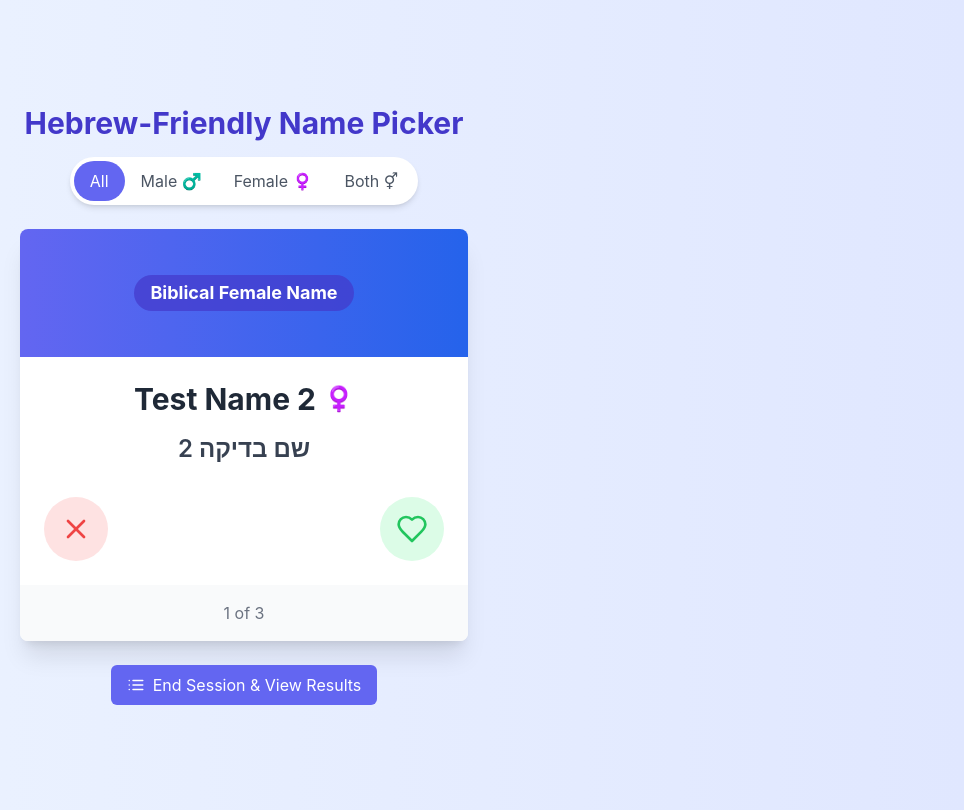
HebrewNamesTinder › moves to next name when like button is clicked
The image size is (964, 810).
# Click the like button
Step 1. Click the button named "Like" → point(412, 529), box top-left (380, 497), bottom-right (444, 561)
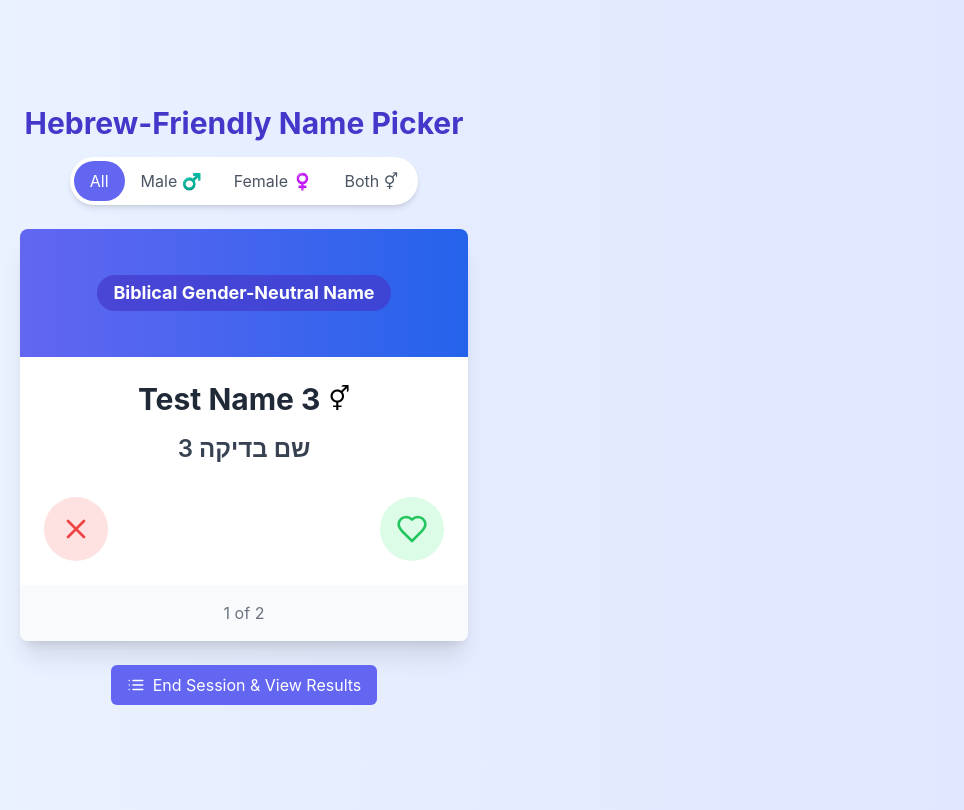
Expected: the heading "Test Name" no longer shows "Test Name 2"
